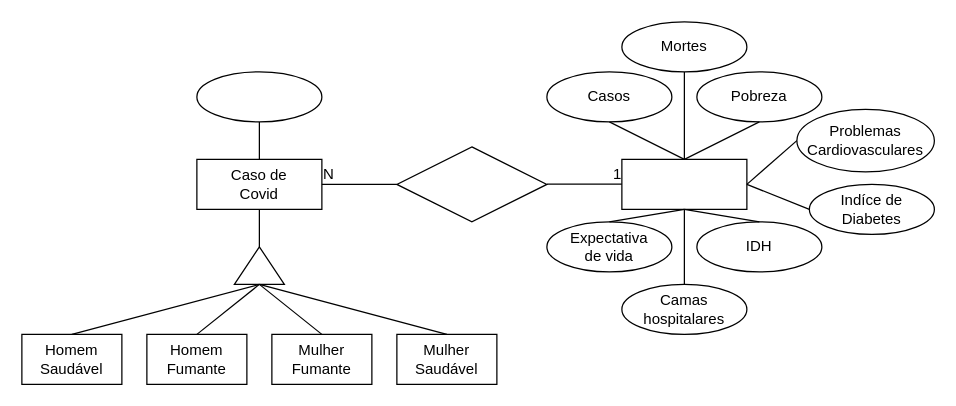
Some shapes in this 956 by 406 pixel diagram are drawn without their labels. Here are the shapes that lost their labels. From the top down, the box of each, then its label:
(196, 71, 322, 122): Data de Ocorrência
(396, 146, 547, 222): Local
(621, 158, 747, 209): País
(233, 246, 284, 284): xt
